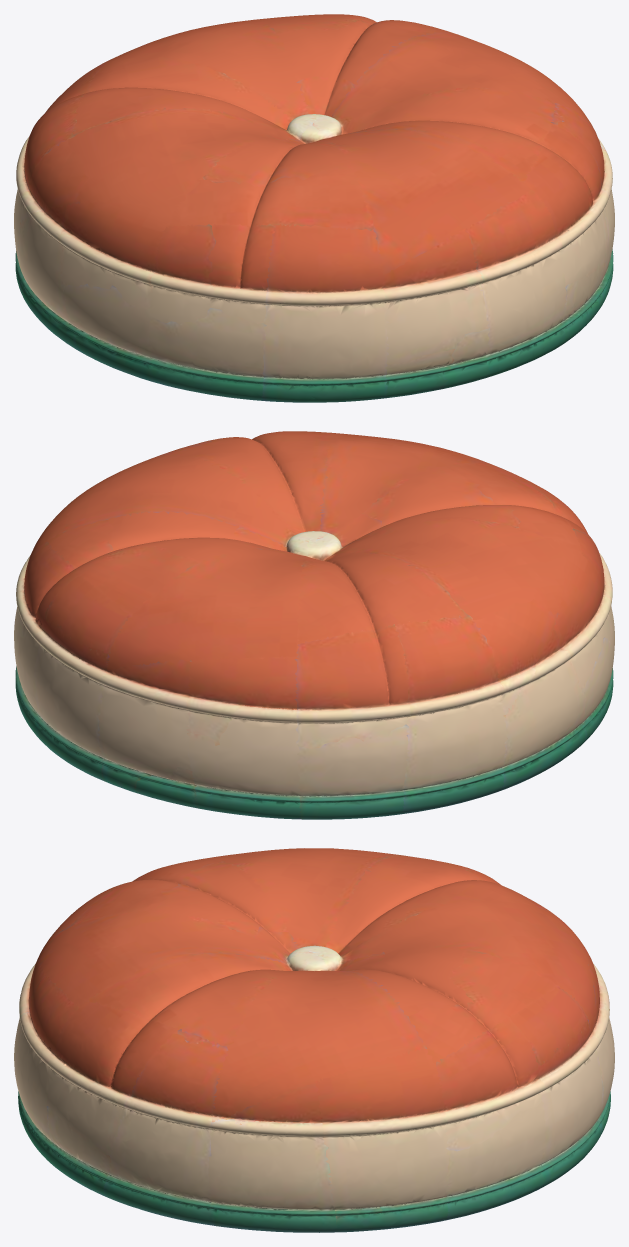
The model's file is majlis-cushion-variant-07-terracotta-segmented-pouf.glb.
The picture shows the model from 3 angles, top to bottom: view 1: azimuth 30°, elevation 25°; view 2: azimuth 150°, elevation 25°; view 3: azimuth 270°, elevation 25°; orthographic projection.
Visible parts, largest first — view 1: mesh_node; view 2: mesh_node; view 3: mesh_node.
Part boxes in pixels (x1,y1,x2,y2): mesh_node: (14, 14, 614, 402); mesh_node: (14, 431, 614, 819); mesh_node: (14, 848, 614, 1232).
Bounding box in the file's own units: 1.9 × 0.6339 × 1.9.
1 material, 1 textured.
